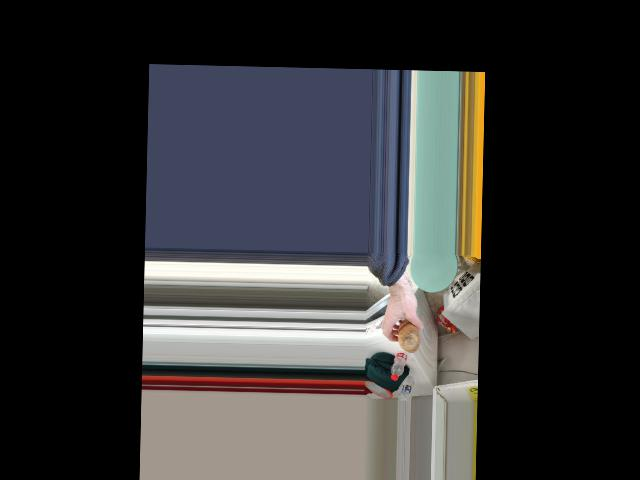sweet_potato: (395, 316, 424, 355)
